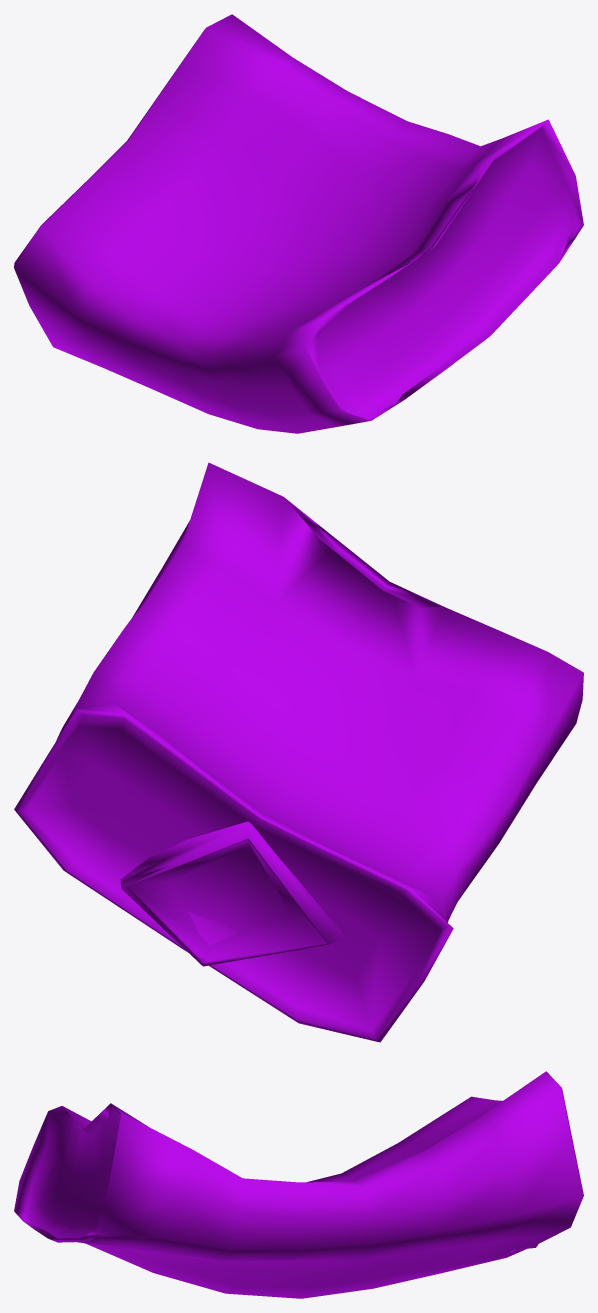
The model's file is trash1 1.fbx.
The picture shows the model from 3 angles, top to bottom: view 1: azimuth 30°, elevation 25°; view 2: azimuth 150°, elevation 25°; view 3: azimuth 270°, elevation 25°; orthographic projection. The views are drawn at different scales.
Parts seen in each view (by area): view 1: trash.064; view 2: trash.064; view 3: trash.064.
Boxes of the visible parts, left/top/right/bottom form: trash.064: left=14, top=14, right=583, bottom=433; trash.064: left=14, top=462, right=583, bottom=1042; trash.064: left=14, top=1071, right=583, bottom=1298.
Bounding box in the file's own units: 50.3 × 35.83 × 61.36.
